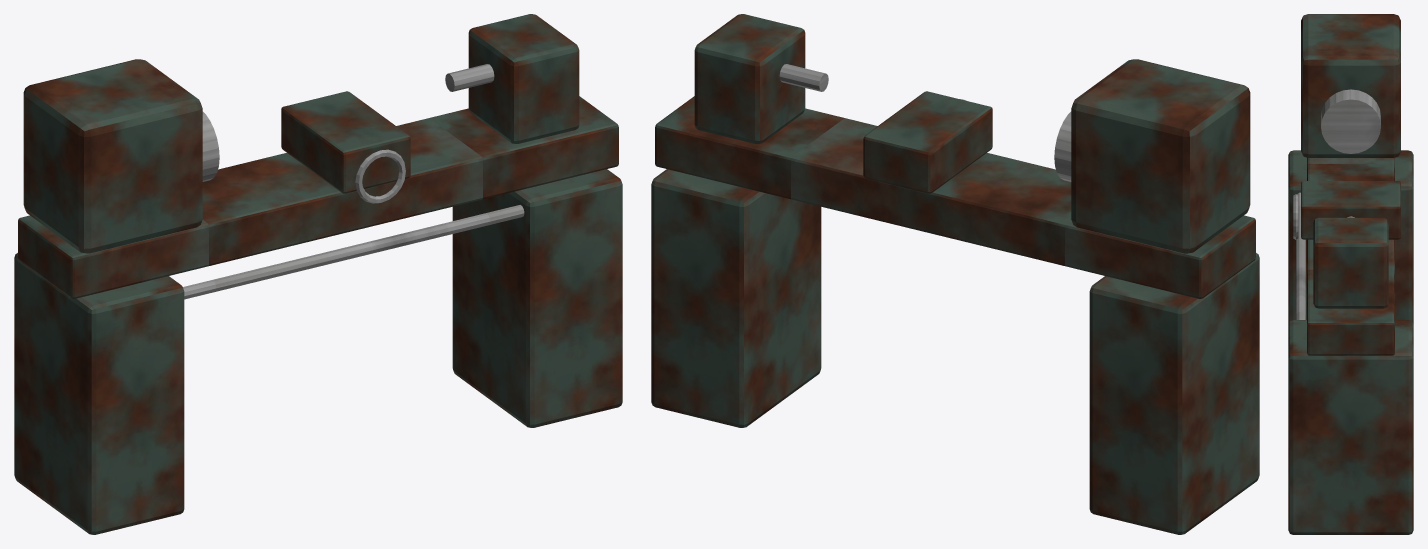
File: HM09_Lathe.glb
3 renders of one model, left to right at view 1: azimuth 30°, elevation 25°; view 2: azimuth 150°, elevation 25°; view 3: azimuth 270°, elevation 25°, orthographic. The views are drawn at different scales.
Parts seen in each view (by area): view 1: HM09_Lathe; view 2: HM09_Lathe; view 3: HM09_Lathe.
Part boxes in pixels (<box>): HM09_Lathe: <box>14,14,622,534</box>; HM09_Lathe: <box>651,14,1259,534</box>; HM09_Lathe: <box>1288,14,1413,534</box>.
Size of the model in its own units: 2 by 1.4 by 0.5.
Materials: 2 (2 with a texture image).
